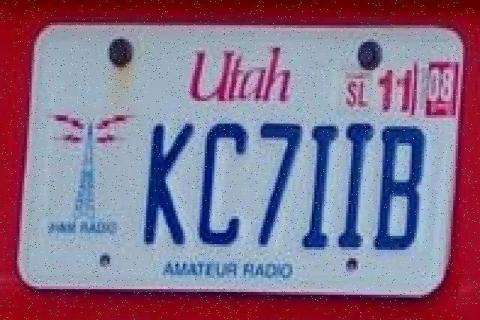LicensePlate: (7, 9, 472, 313)
